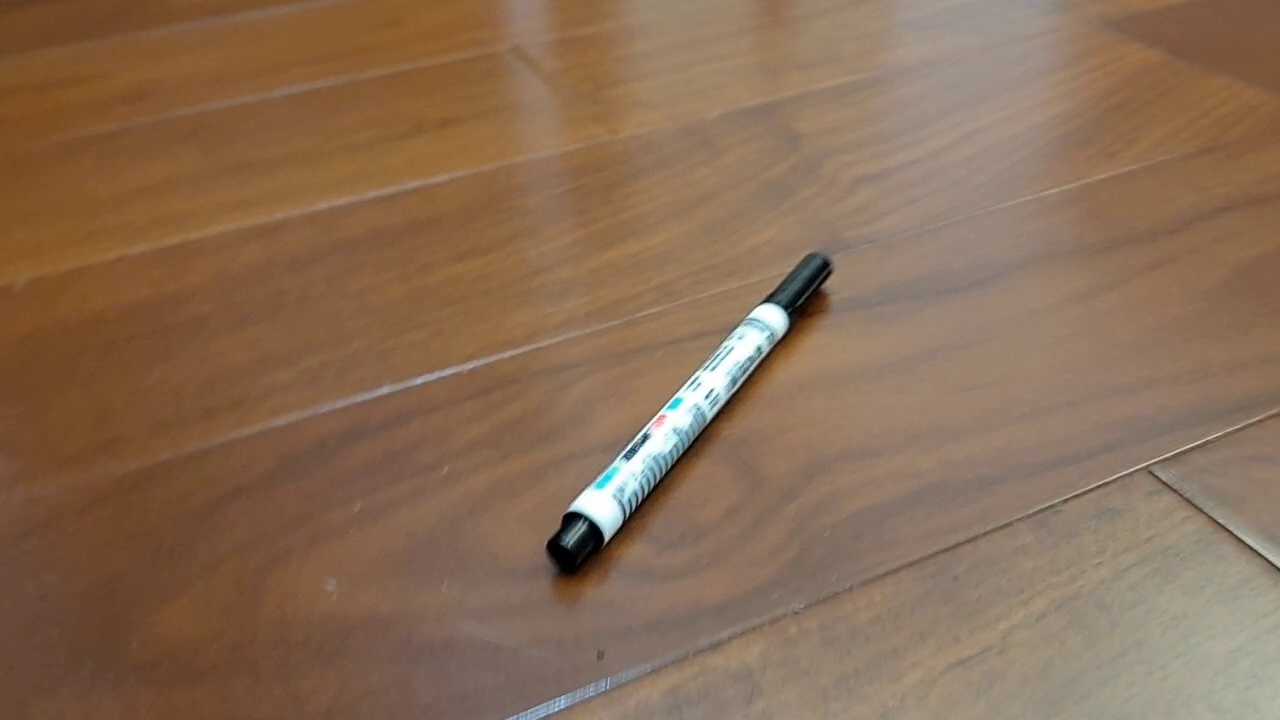pen: (545, 251, 834, 577)
